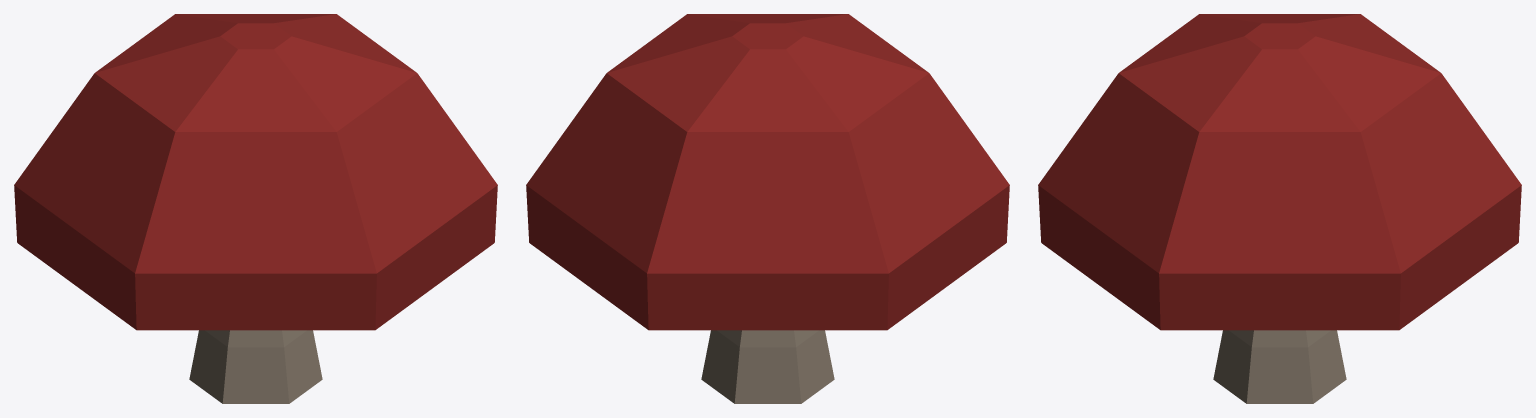
The model's file is Cogumelo 4.fbx.
The picture shows the model from 3 angles, left to right: view 1: azimuth 30°, elevation 25°; view 2: azimuth 150°, elevation 25°; view 3: azimuth 270°, elevation 25°; orthographic projection.
Visible parts, largest first — view 1: Cogumelo 1; view 2: Cogumelo 1; view 3: Cogumelo 1.
Boxes of the visible parts, x1,y1,x2,y2 form: Cogumelo 1: (14, 14, 497, 403); Cogumelo 1: (526, 14, 1009, 403); Cogumelo 1: (1038, 14, 1521, 403).
Bounding box in the file's own units: 627 × 567 × 724.
